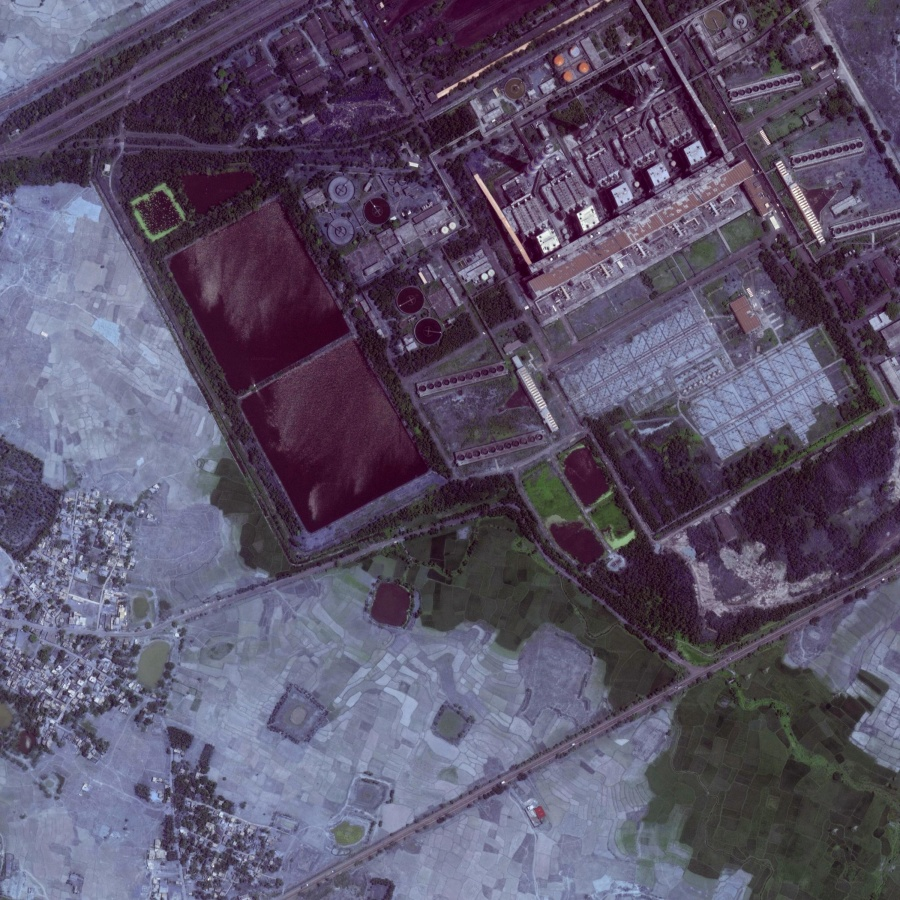PowerPlant: (140, 174, 502, 578)
